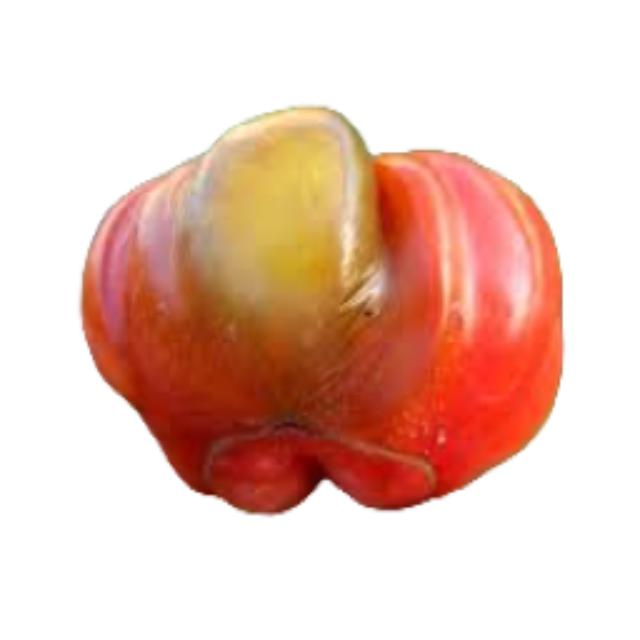defect: (73, 99, 572, 517)
